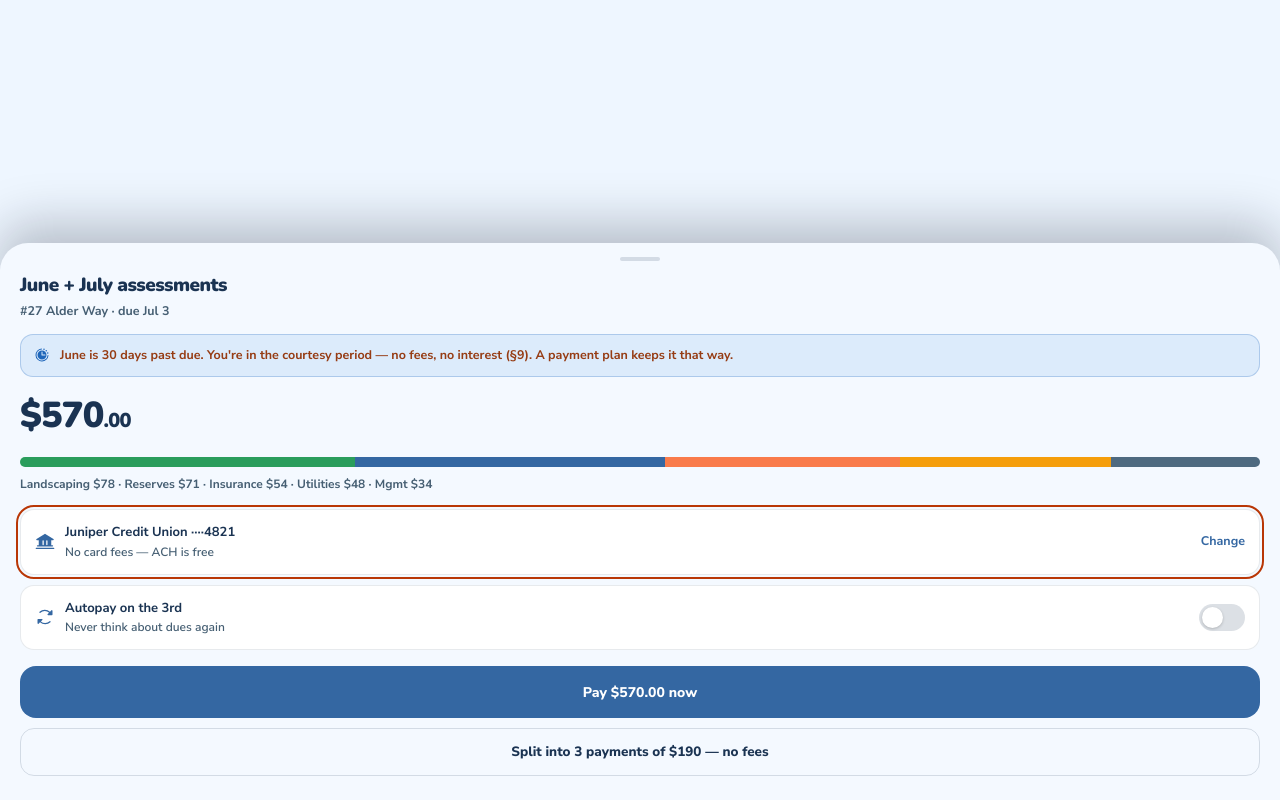
it: delinquent scenario offers 3-payment plan
(page scrolled)
expect the heading "June + July assessments" is shown: met, box left=20, top=272, right=227, bottom=298
Click the button "Split into 3 payments of $190 — no fees": [640, 752] box left=20, top=728, right=1260, bottom=776
(page scrolled)
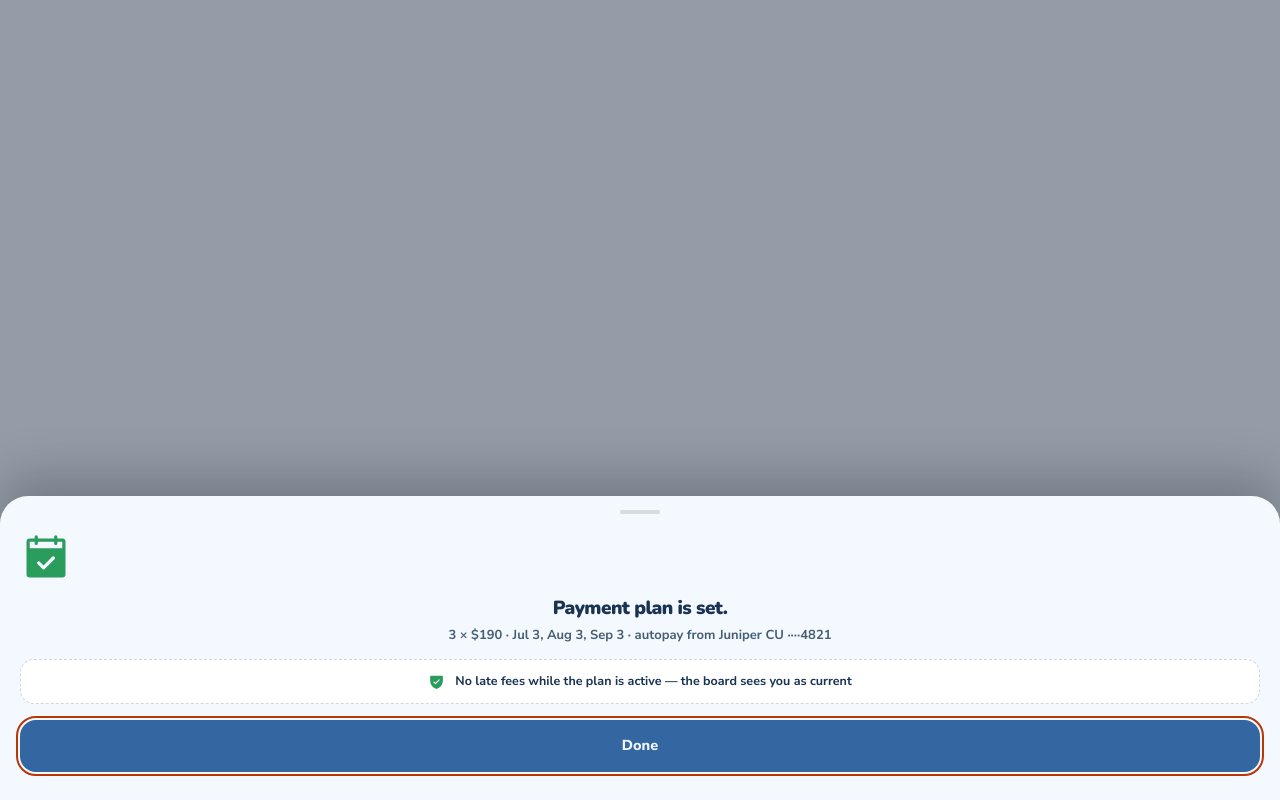
expect the heading "Payment plan is set." is shown: met, box left=553, top=595, right=727, bottom=621
